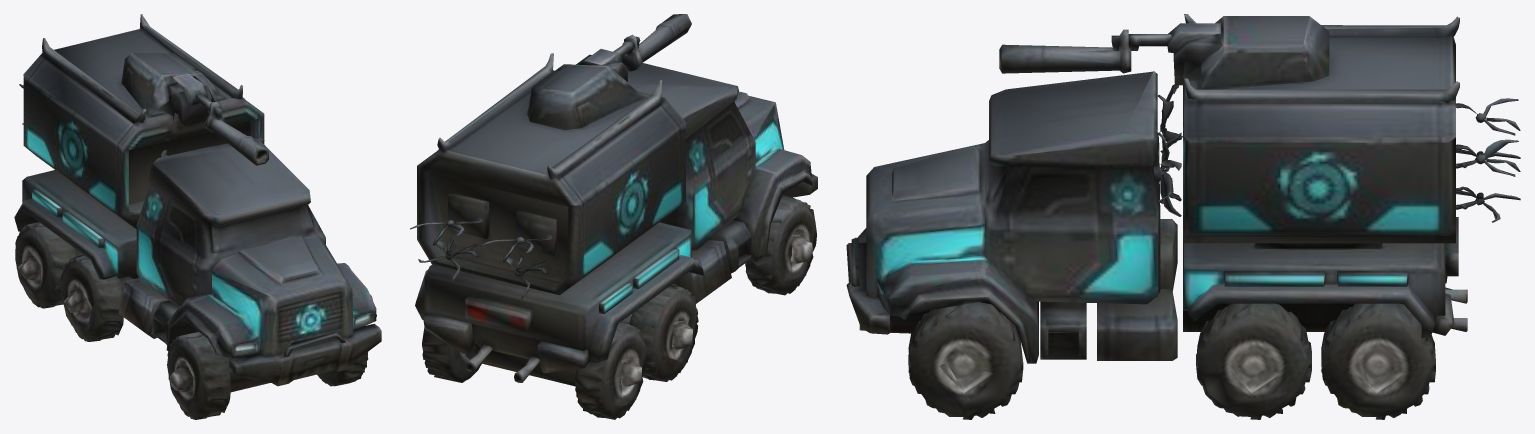
File: swarm_hive.glb
3 views of the same model, side by side, from view 1: azimuth 30°, elevation 25°; view 2: azimuth 150°, elevation 25°; view 3: azimuth 270°, elevation 25° (orthographic). The views are drawn at different scales.
Visible parts, largest first — view 1: tripo_node_0a2fae2a-4185-4575-a643-1cf923a988c1; view 2: tripo_node_0a2fae2a-4185-4575-a643-1cf923a988c1; view 3: tripo_node_0a2fae2a-4185-4575-a643-1cf923a988c1.
Part boxes in pixels (x1,y1,x2,y2): tripo_node_0a2fae2a-4185-4575-a643-1cf923a988c1: [14, 14, 381, 419]; tripo_node_0a2fae2a-4185-4575-a643-1cf923a988c1: [410, 14, 817, 419]; tripo_node_0a2fae2a-4185-4575-a643-1cf923a988c1: [846, 14, 1520, 419].
Bounding box in the file's own units: 2.68 × 3.5 × 6.19.
Materials: 1 (1 with a texture image).
